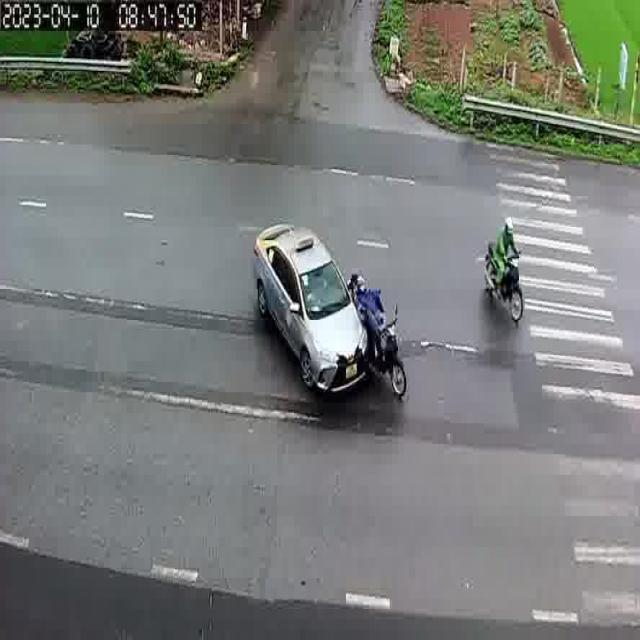multiple_accident: (246, 209, 411, 423)
normal: (456, 200, 553, 339)
